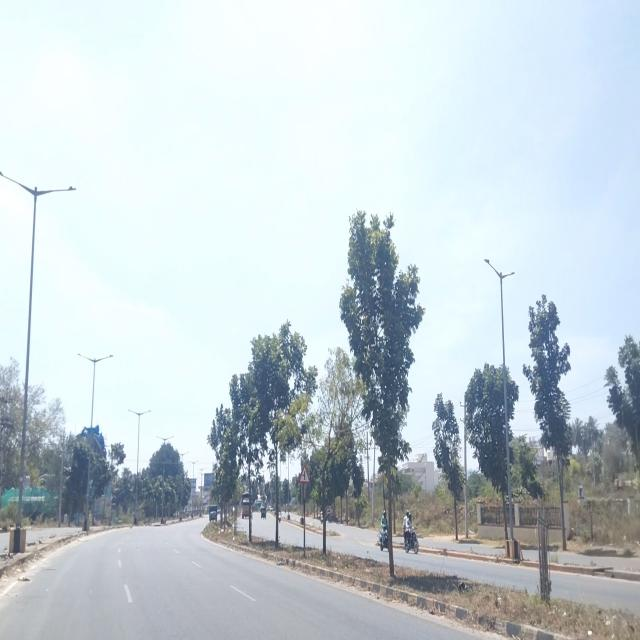bien_cam: (298, 464, 310, 484)
